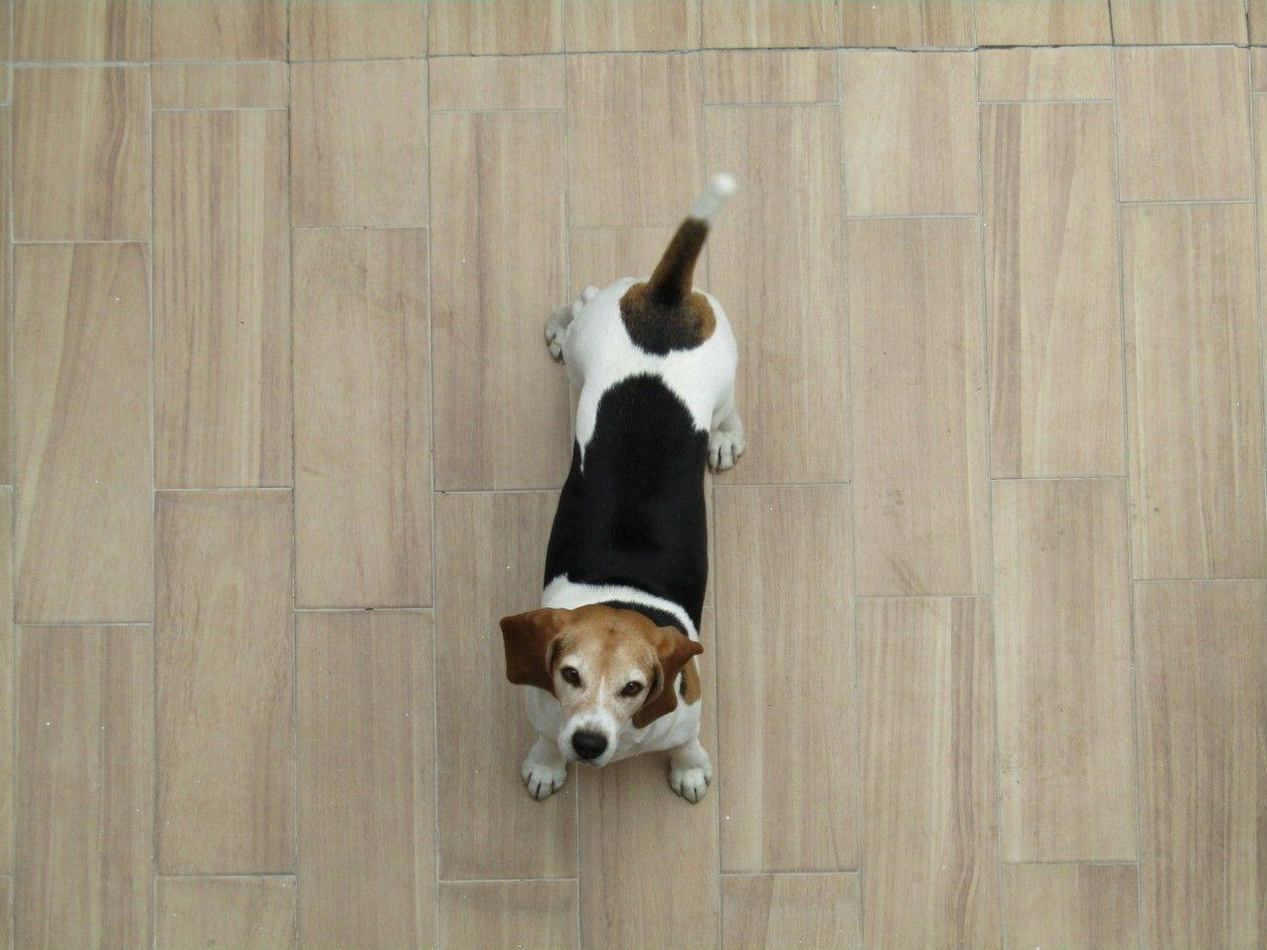adult_dog: (499, 167, 746, 809)
